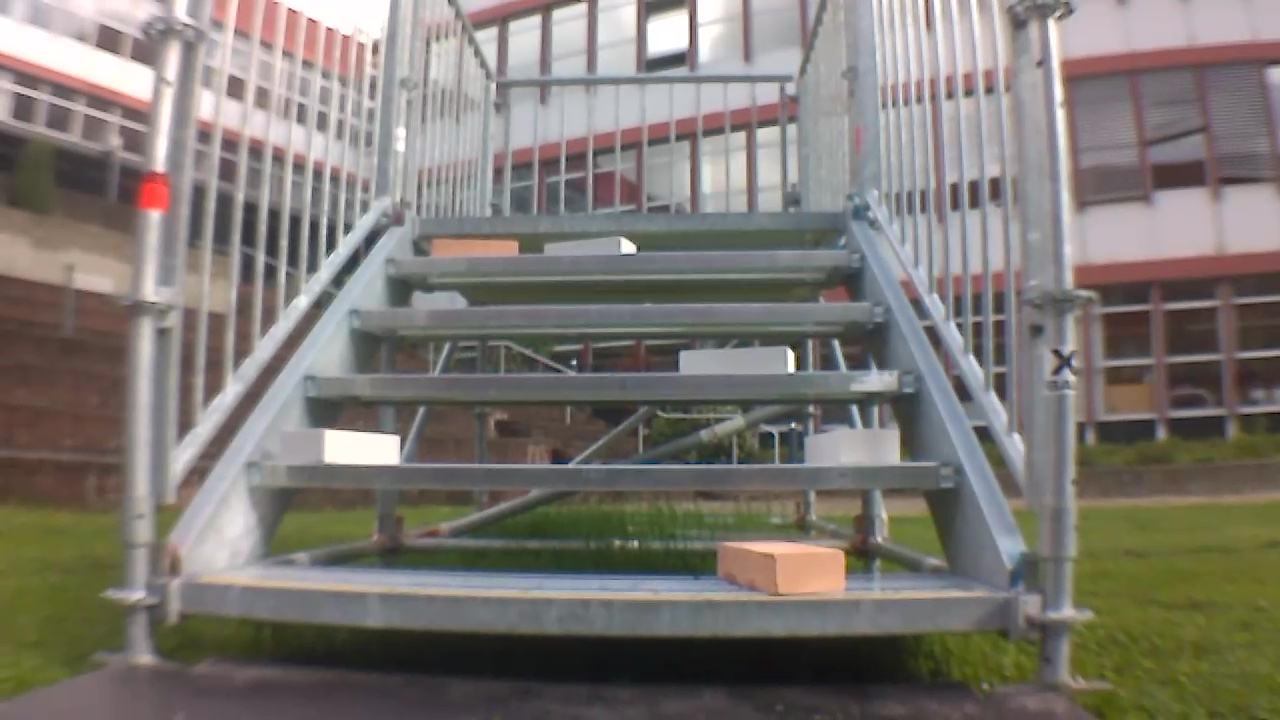brick: (718, 540, 844, 593), (281, 429, 400, 464), (805, 428, 899, 463), (679, 347, 794, 374), (546, 237, 637, 255), (431, 240, 517, 256)
edge: (182, 580, 1009, 635), (249, 462, 963, 489), (302, 371, 916, 398), (350, 302, 888, 325), (385, 250, 866, 272), (416, 211, 844, 232)
stairs: (99, 1, 1098, 691)
steps: (179, 208, 1019, 644)
